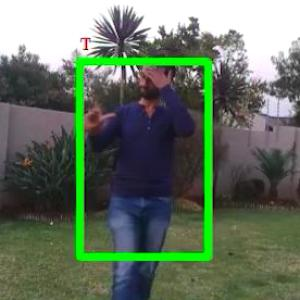land_hand: (74, 78, 117, 130)
